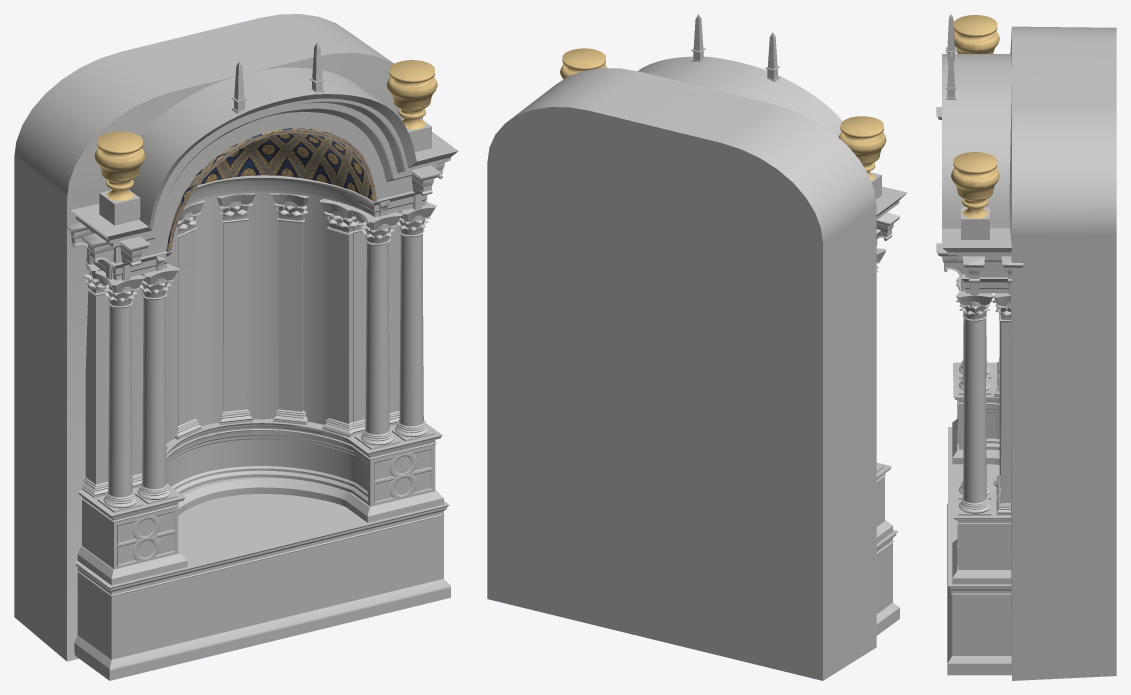
The model's file is Composite_Apse.fbx.
3 renders of one model, left to right at view 1: azimuth 30°, elevation 25°; view 2: azimuth 150°, elevation 25°; view 3: azimuth 270°, elevation 25°, orthographic. The views are drawn at different scales.
Parts seen in each view (by area): view 1: Composite_Apse; view 2: Composite_Apse; view 3: Composite_Apse.
Boxes of the visible parts, bbox=[...] form: Composite_Apse: bbox=[14, 14, 458, 680]; Composite_Apse: bbox=[487, 14, 907, 680]; Composite_Apse: bbox=[936, 14, 1116, 680].
Bounding box in the file's own units: 313 × 491 × 142.
